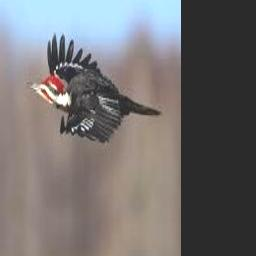Woodpecker: (26, 32, 161, 144)
